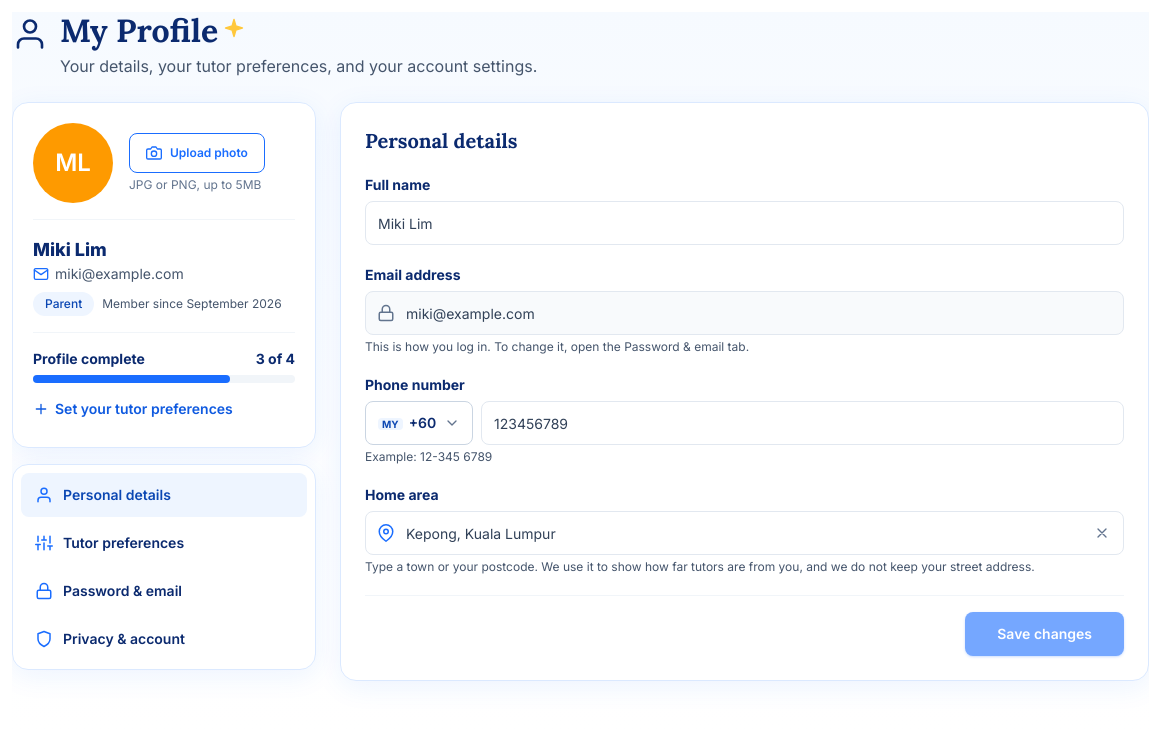
personal details › each problem is shown next to its own field and nothing is sent
Check: the button "Save changes" is shown, box 965,612 -> 1124,656
Clear the field labelled "Full name" at (744, 223), box 365,201 -> 1124,245
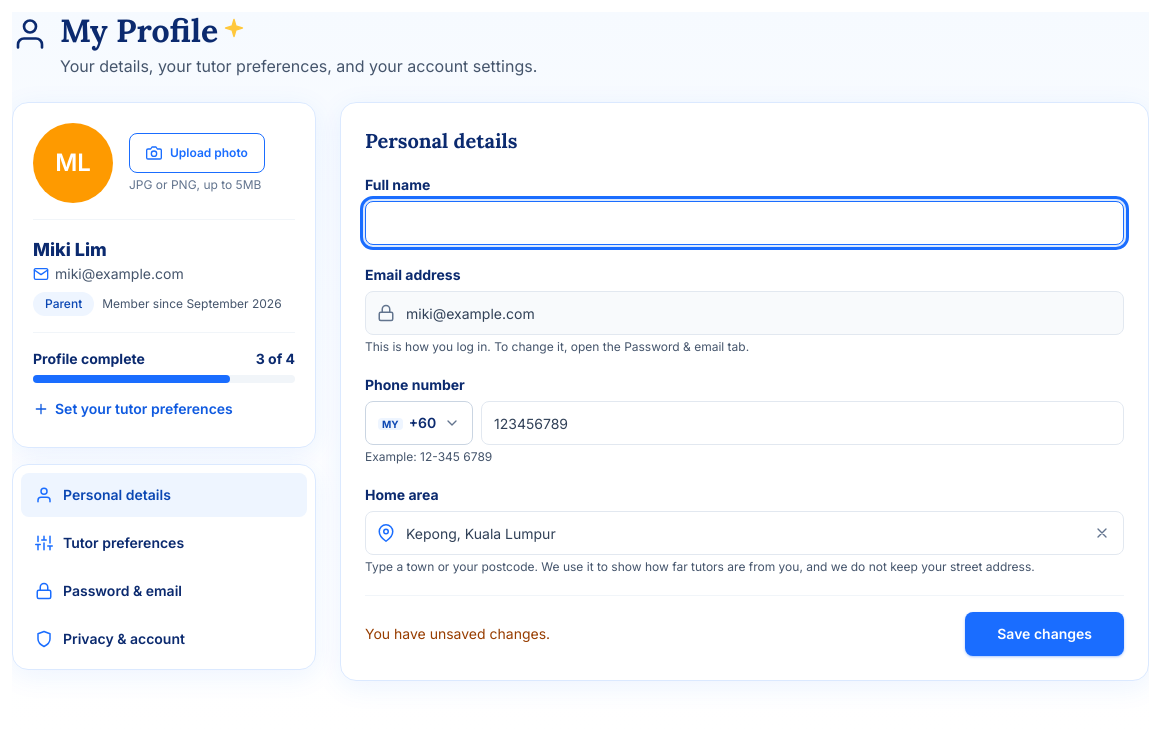
Clear the field labelled "Phone number" at (802, 423), box 481,401 -> 1124,445
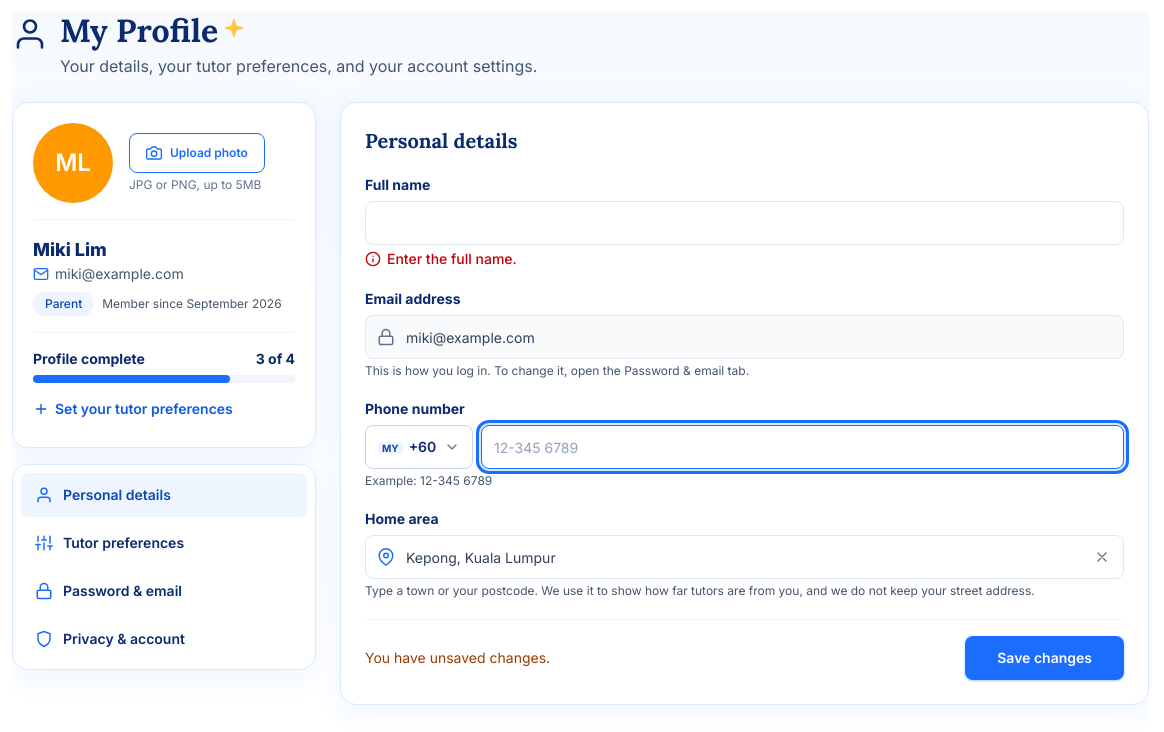
Type "12" into the field labelled "Phone number".
click(802, 447); type("12")  # box 481,425 -> 1124,469
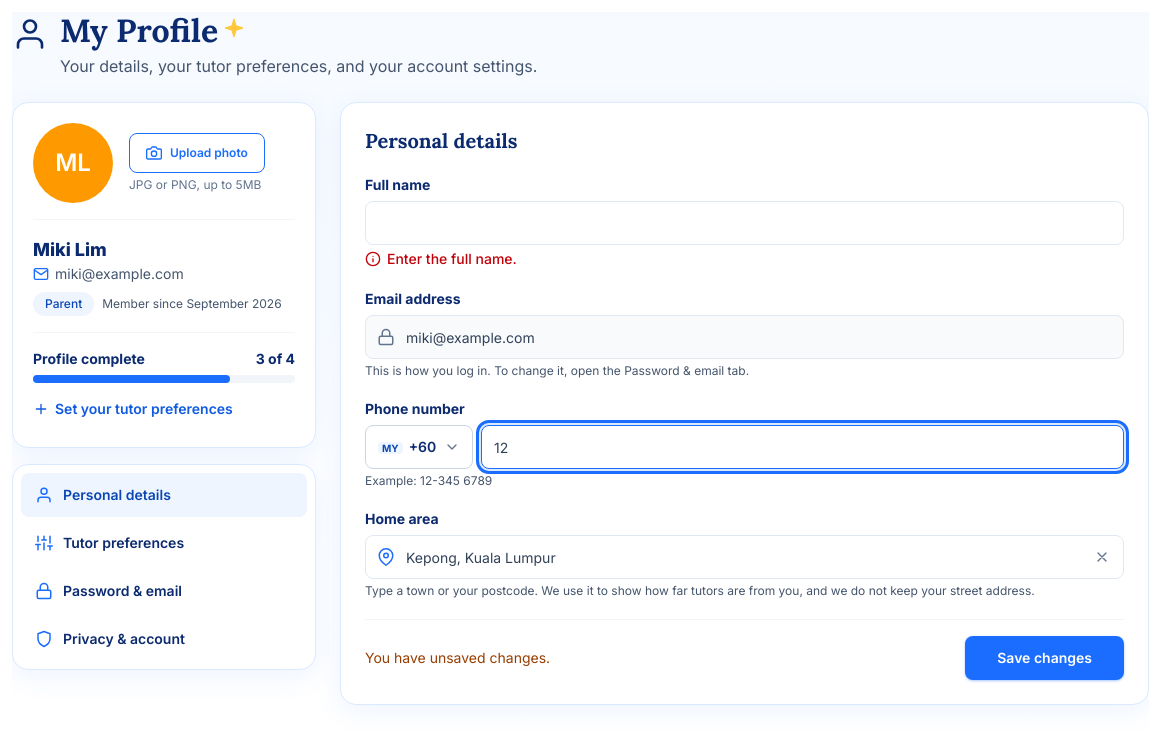
Click the button "Save changes".
click(1045, 658)  # box 965,636 -> 1124,680
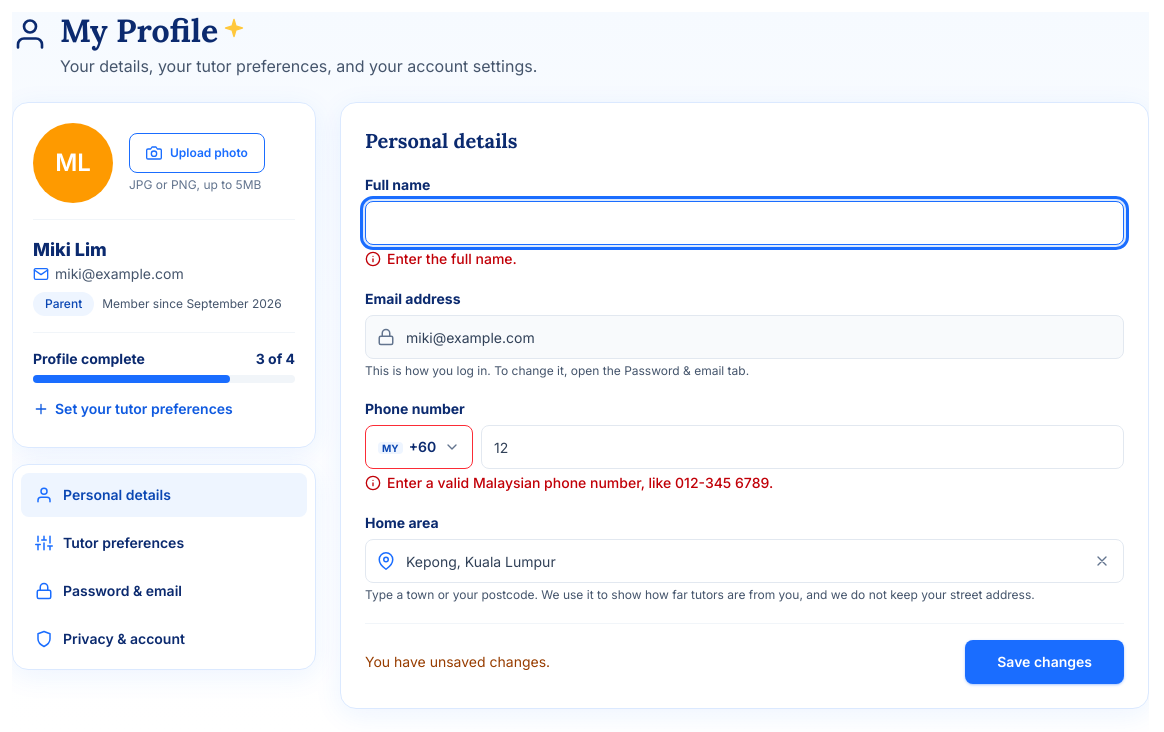
Check: the text "Enter the full name." is shown, box 365,250 -> 517,267
Check: the text "Enter a valid Malaysian phone number, like 012-345 6789." is shown, box 365,474 -> 773,491
